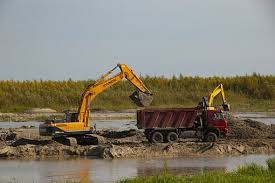excavator: (39, 61, 153, 148)
truck: (135, 106, 230, 144)
